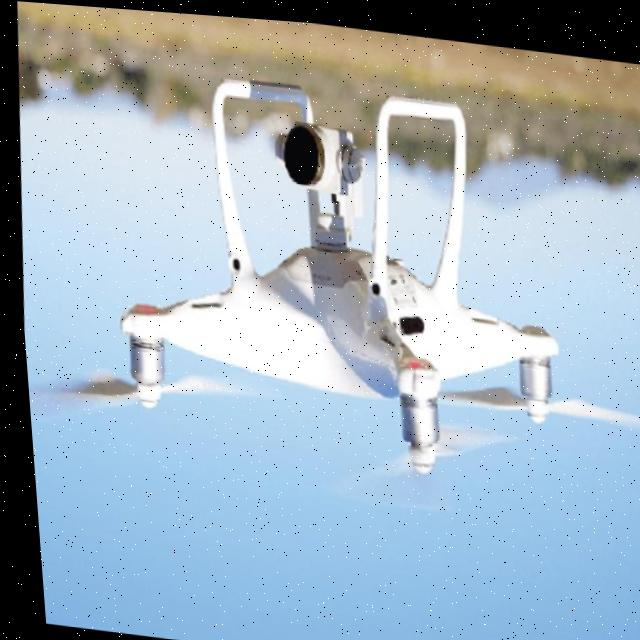drones: (5, 28, 640, 545)
